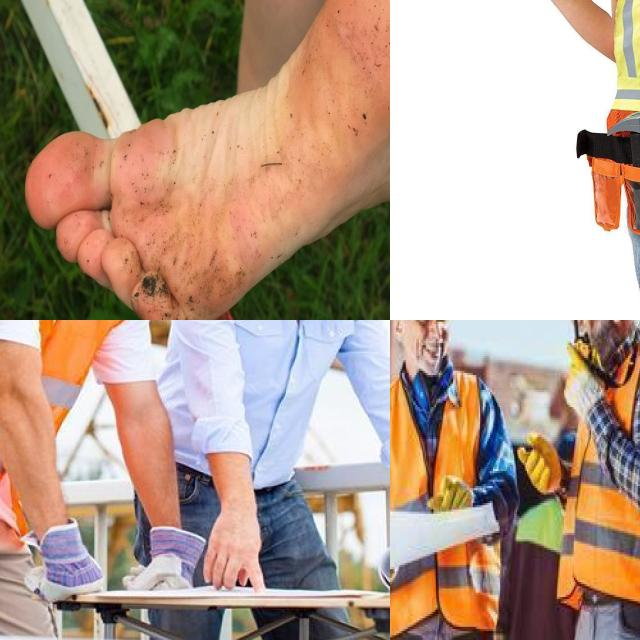Barefoots: (24, 0, 390, 320)
face_nomask: (390, 320, 459, 383), (567, 320, 628, 338)
hand_glove: (19, 520, 114, 602), (125, 517, 204, 608), (551, 339, 617, 430), (520, 420, 567, 511), (433, 467, 482, 535), (390, 545, 403, 618)
hand_noglove: (190, 490, 273, 603)
person: (164, 320, 390, 619), (0, 320, 172, 640), (390, 320, 508, 640), (541, 320, 640, 640), (560, 0, 640, 320)
vest: (390, 371, 514, 629), (557, 349, 640, 599), (0, 320, 105, 505)
